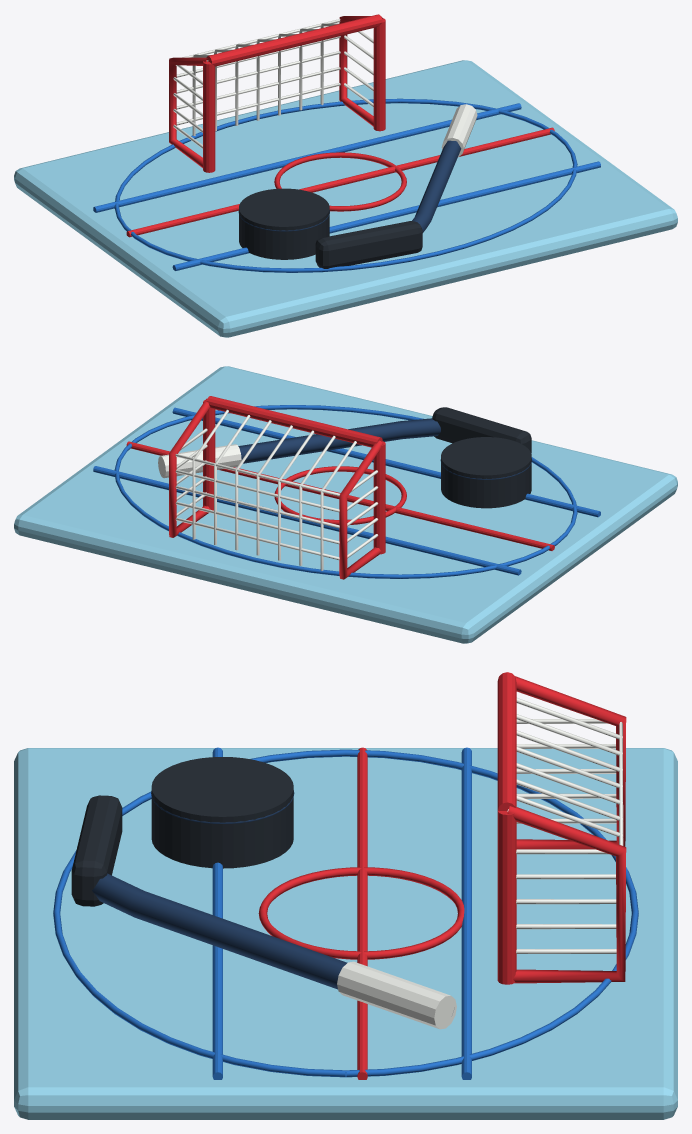
Rendered from hockey.glb.
3 renders of one model, top to bottom at view 1: azimuth 30°, elevation 25°; view 2: azimuth 150°, elevation 25°; view 3: azimuth 270°, elevation 25°, orthographic. The views are drawn at different scales.
Parts seen in each view (by area): view 1: hockey; view 2: hockey; view 3: hockey.
Boxes of the visible parts, x1,y1,x2,y2 form: hockey: (14,14,677,337); hockey: (14,366,677,643); hockey: (14,672,677,1119).
Size of the model in its own units: 0.35 by 0.099 by 0.28.
